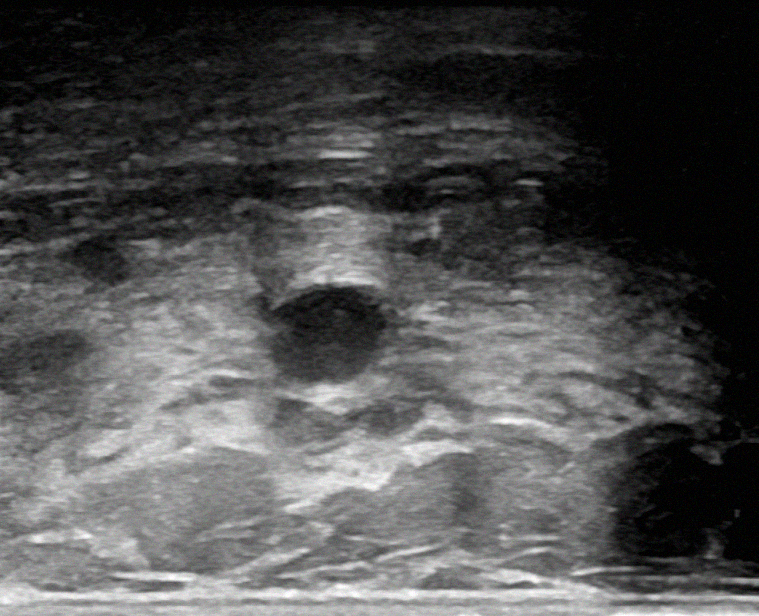Malignant: (270, 263, 395, 382)
